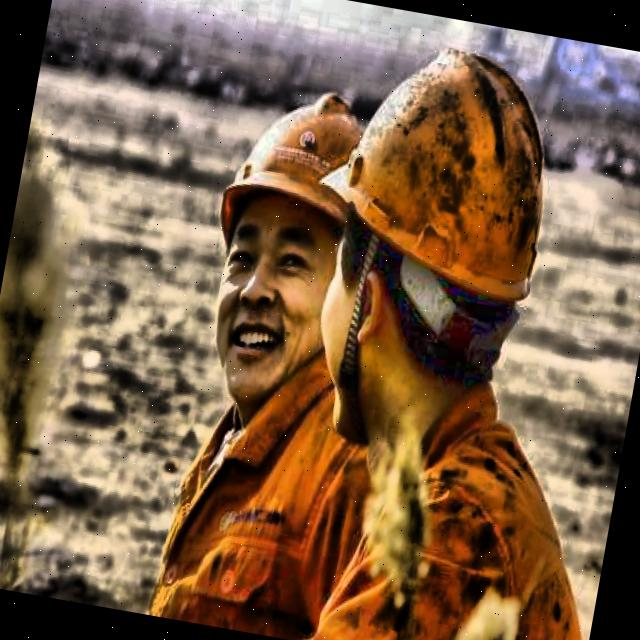helmet: (292, 4, 604, 479), (170, 58, 402, 432)
